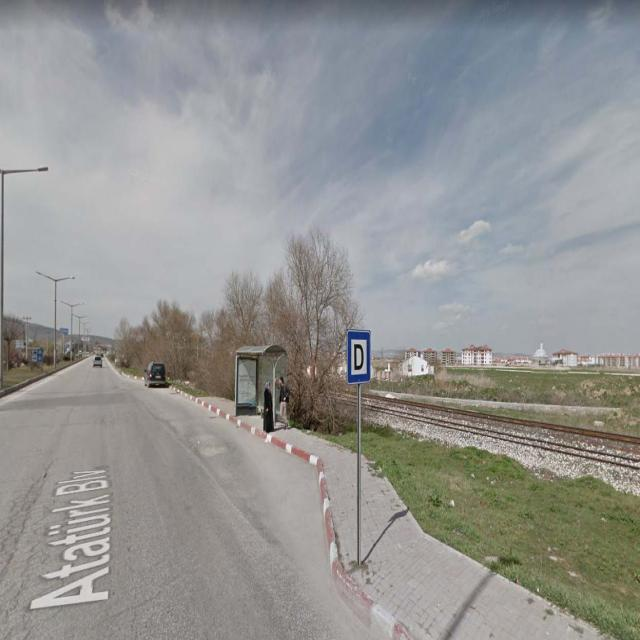durak: (347, 330, 371, 382)
